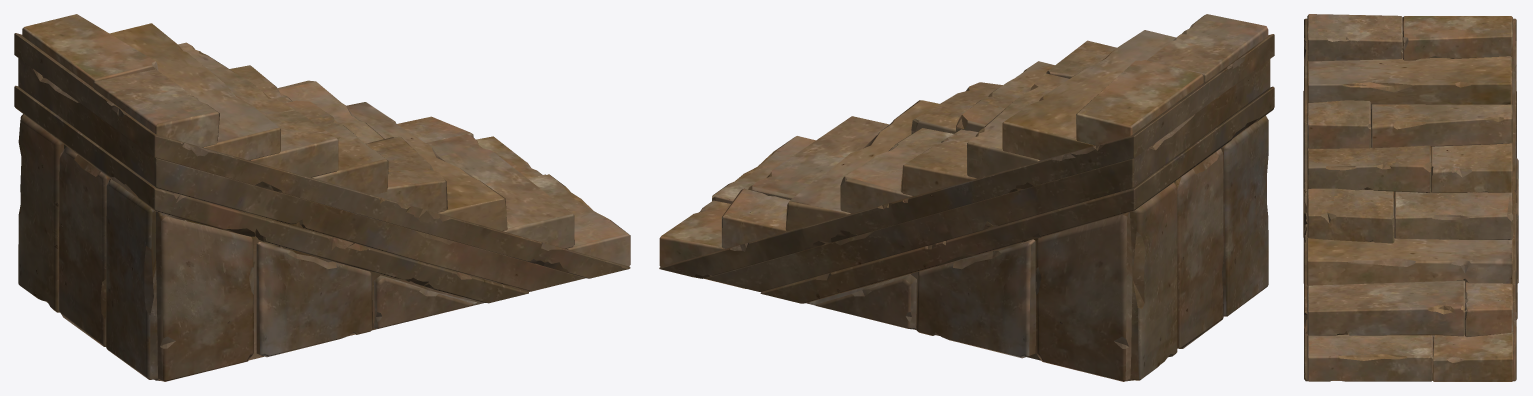
3 renders of one model, left to right at view 1: azimuth 30°, elevation 25°; view 2: azimuth 150°, elevation 25°; view 3: azimuth 270°, elevation 25°, orthographic. The views are drawn at different scales.
Parts seen in each view (by area): view 1: SM_Vault_2m_Stairs_02_LOD0; view 2: SM_Vault_2m_Stairs_02_LOD0; view 3: SM_Vault_2m_Stairs_02_LOD0.
Boxes of the visible parts, x1,y1,x2,y2 form: SM_Vault_2m_Stairs_02_LOD0: [14, 14, 630, 381]; SM_Vault_2m_Stairs_02_LOD0: [659, 14, 1274, 381]; SM_Vault_2m_Stairs_02_LOD0: [1303, 14, 1518, 381].
Bounding box in the file's own units: 4.07 × 2.09 × 2.09.
3 materials, 3 textured.
